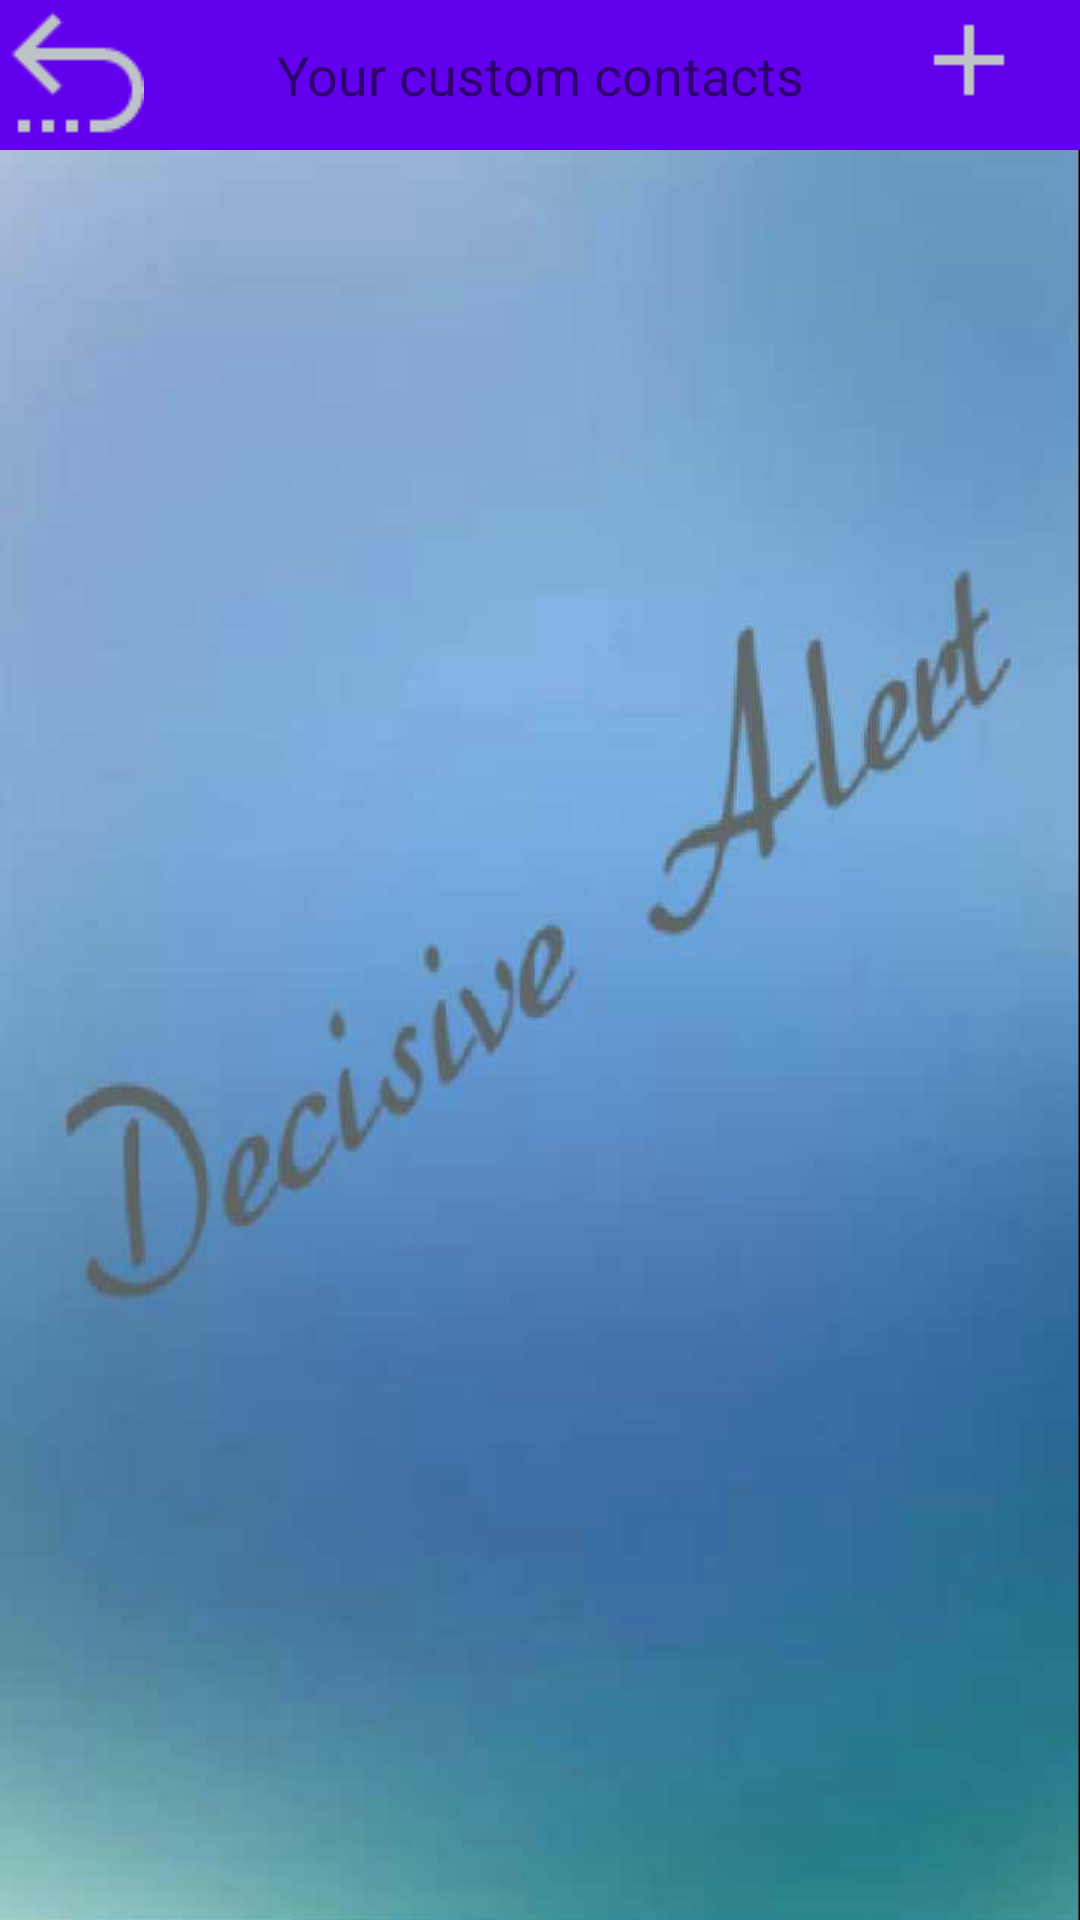

Where to tap for icons on this 1080×1920 app screen, as [x,y]:
add: [969,60]
back: [77,72]
